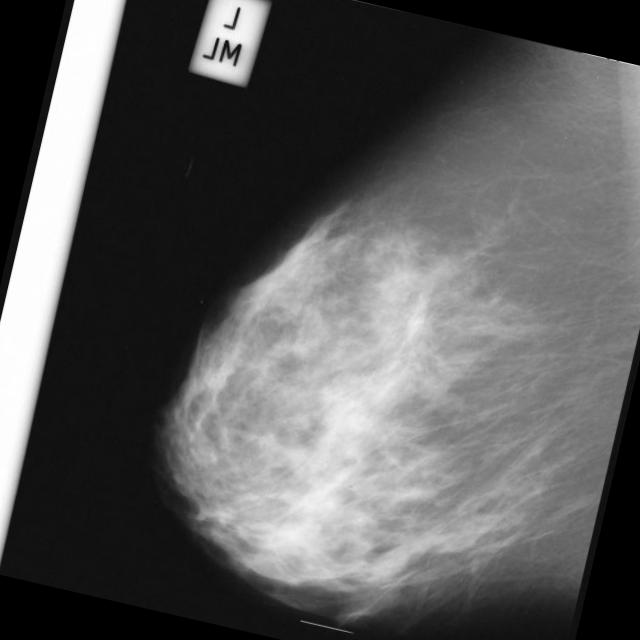SPIC: (384, 286, 457, 359)
